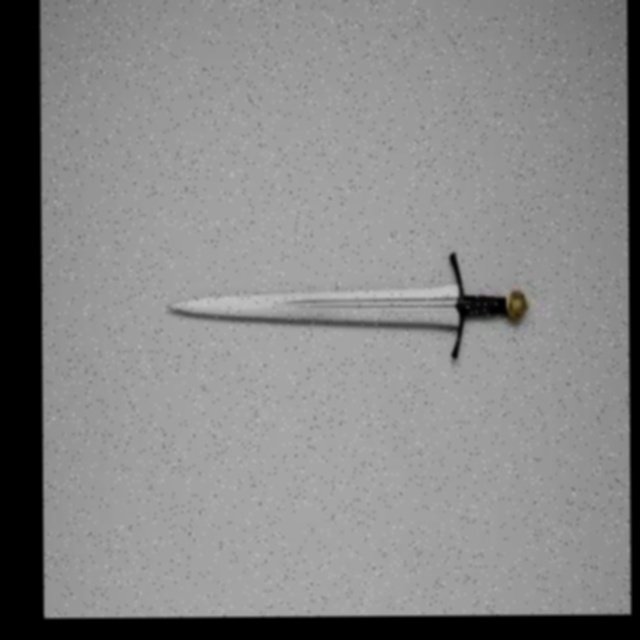Sharp-Object: (161, 270, 535, 340)
